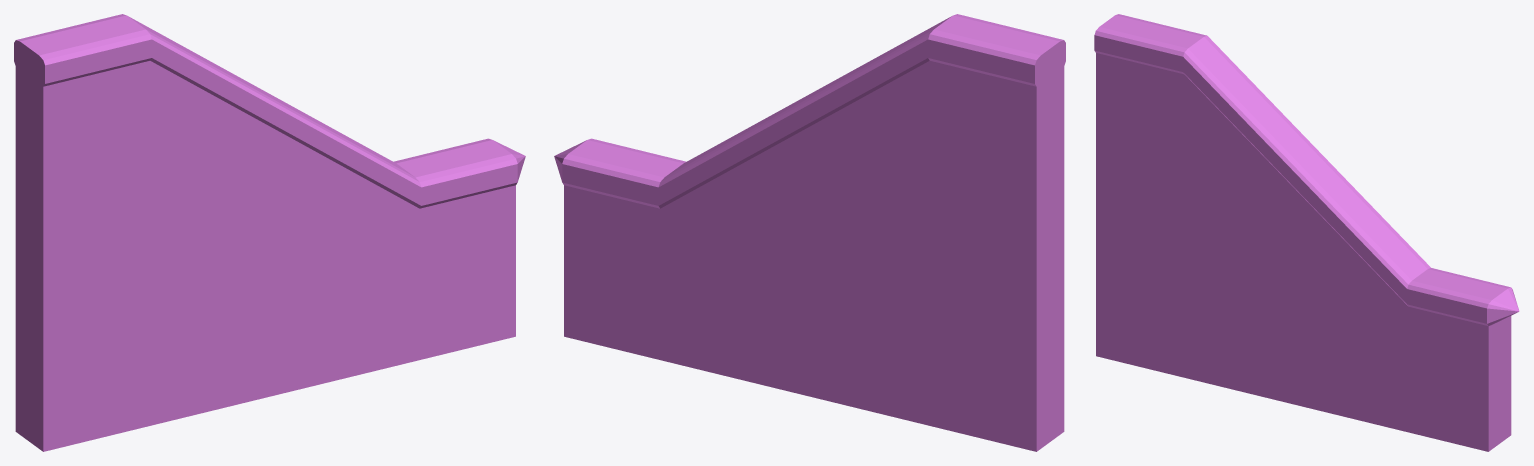
File: Foundation_Stairs_Railing_Large_1.fbx
3 renders of one model, left to right at view 1: azimuth 30°, elevation 25°; view 2: azimuth 150°, elevation 25°; view 3: azimuth 330°, elevation 25°, orthographic. The views are drawn at different scales.
Parts seen in each view (by area): view 1: Foundation_Stairs_Railing_Large_1; view 2: Foundation_Stairs_Railing_Large_1; view 3: Foundation_Stairs_Railing_Large_1.
Part boxes in pixels (box(x1,y1,x2,y2)): Foundation_Stairs_Railing_Large_1: box(14, 14, 525, 451); Foundation_Stairs_Railing_Large_1: box(554, 14, 1065, 451); Foundation_Stairs_Railing_Large_1: box(1094, 14, 1519, 451).
Bounding box in the file's own units: 185 × 140 × 19.97.
